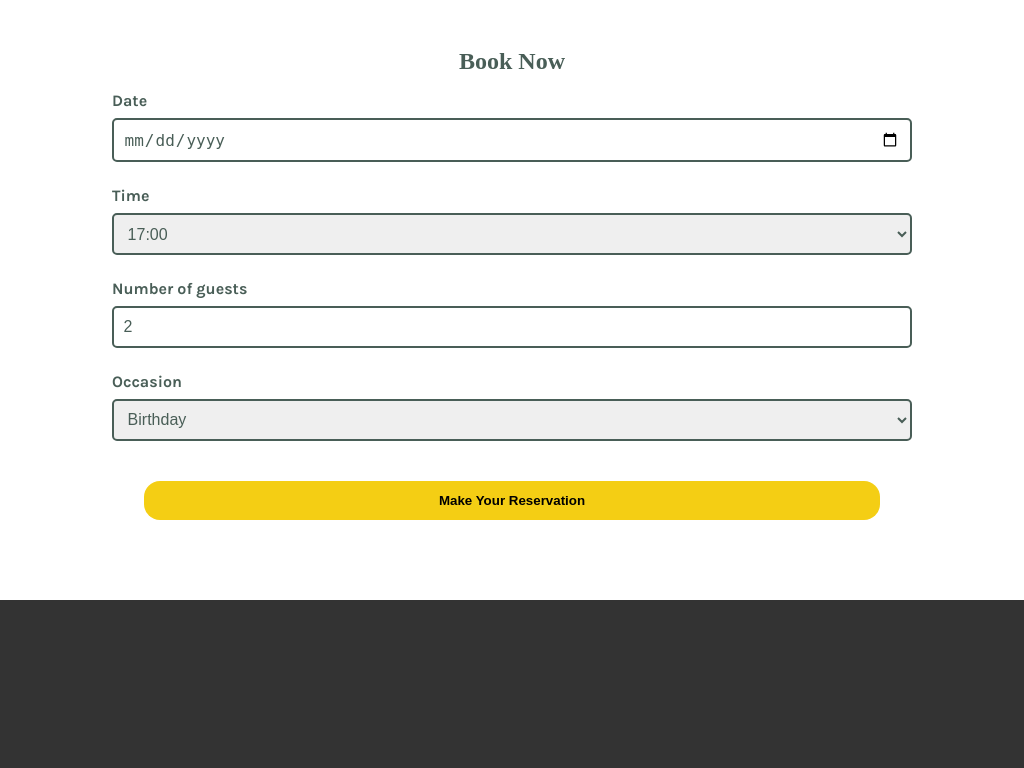
Booking Form › Invalid number of guests shows error
Replace the text in the number field labelled "Number of guests" with "0" at (512, 327), box [112,306,912,348]
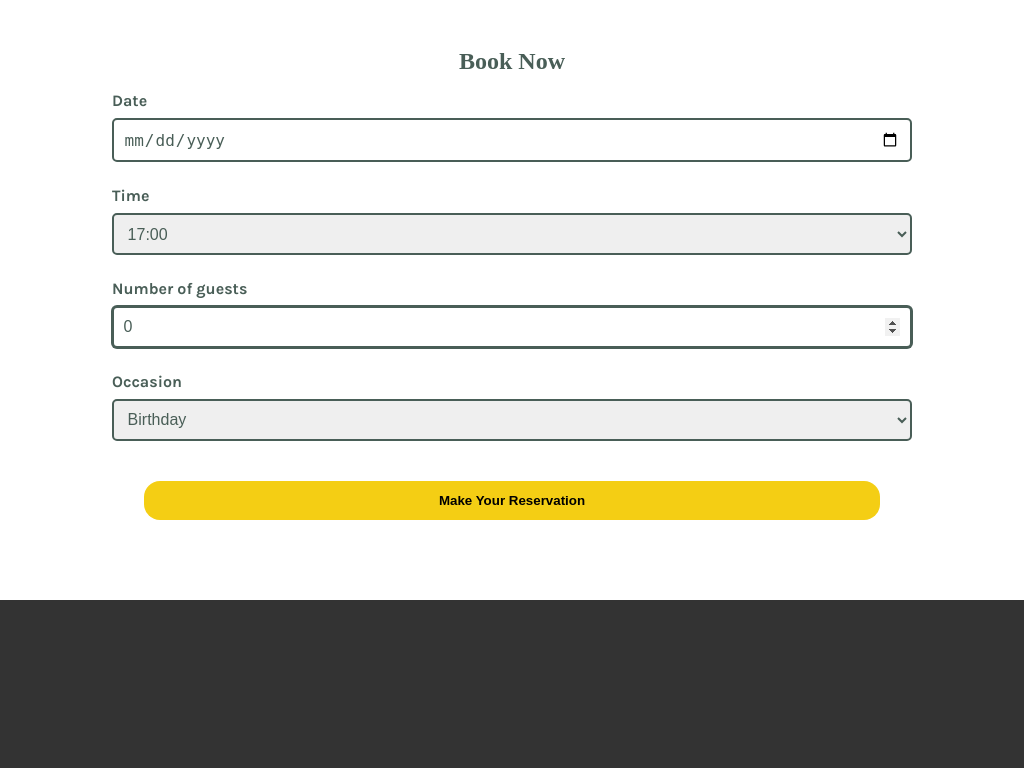
Press Tab
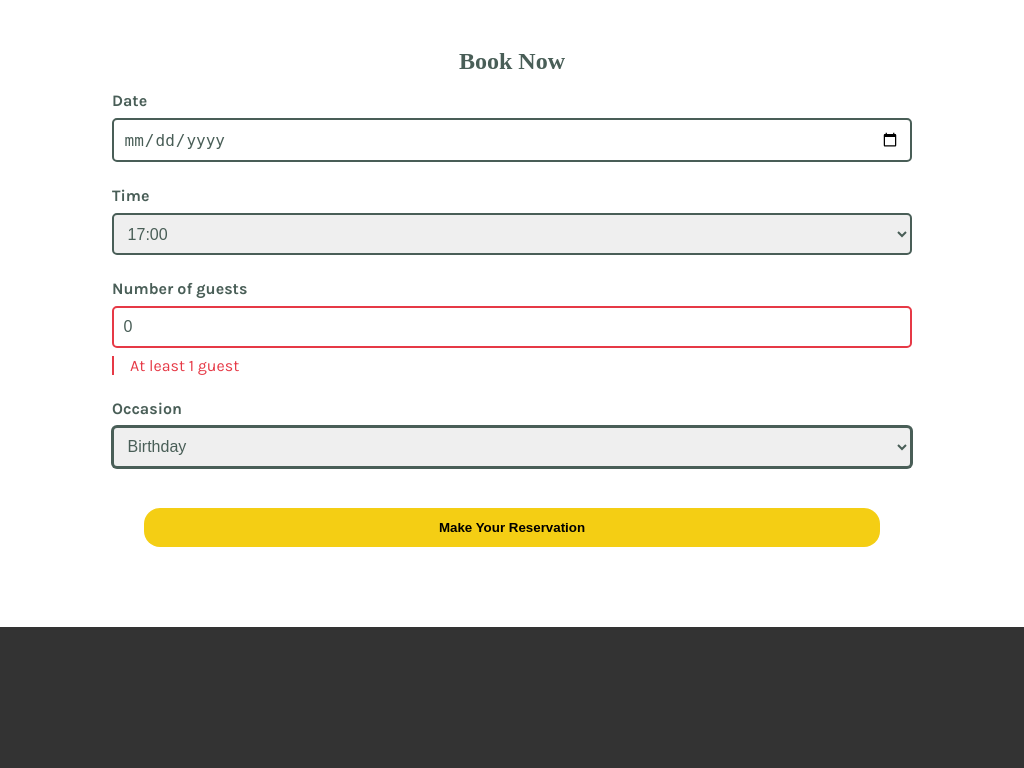
Now the text "At least 1 guest" is shown, box [112,356,912,375]
